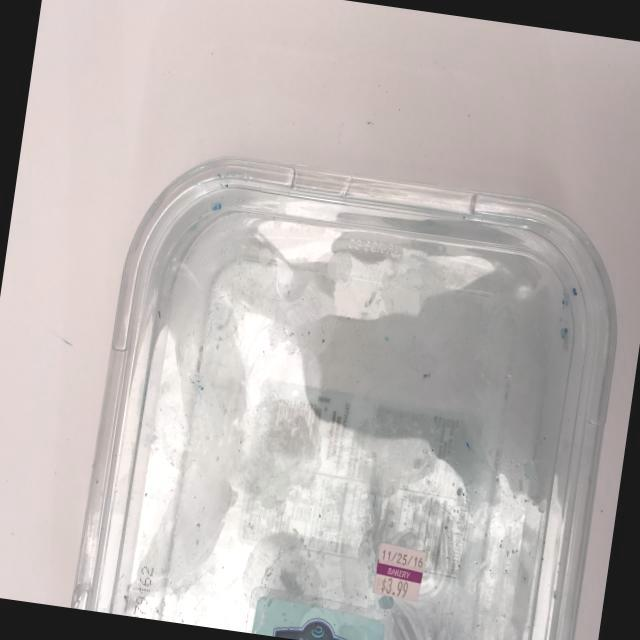plastic: (58, 114, 640, 640)
